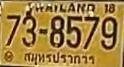3: (21, 14, 35, 46)
5: (66, 15, 81, 47)
7: (83, 16, 99, 48), (6, 14, 20, 45)
8: (49, 16, 63, 46)
9: (100, 16, 116, 49)
SPK: (22, 50, 97, 67)
